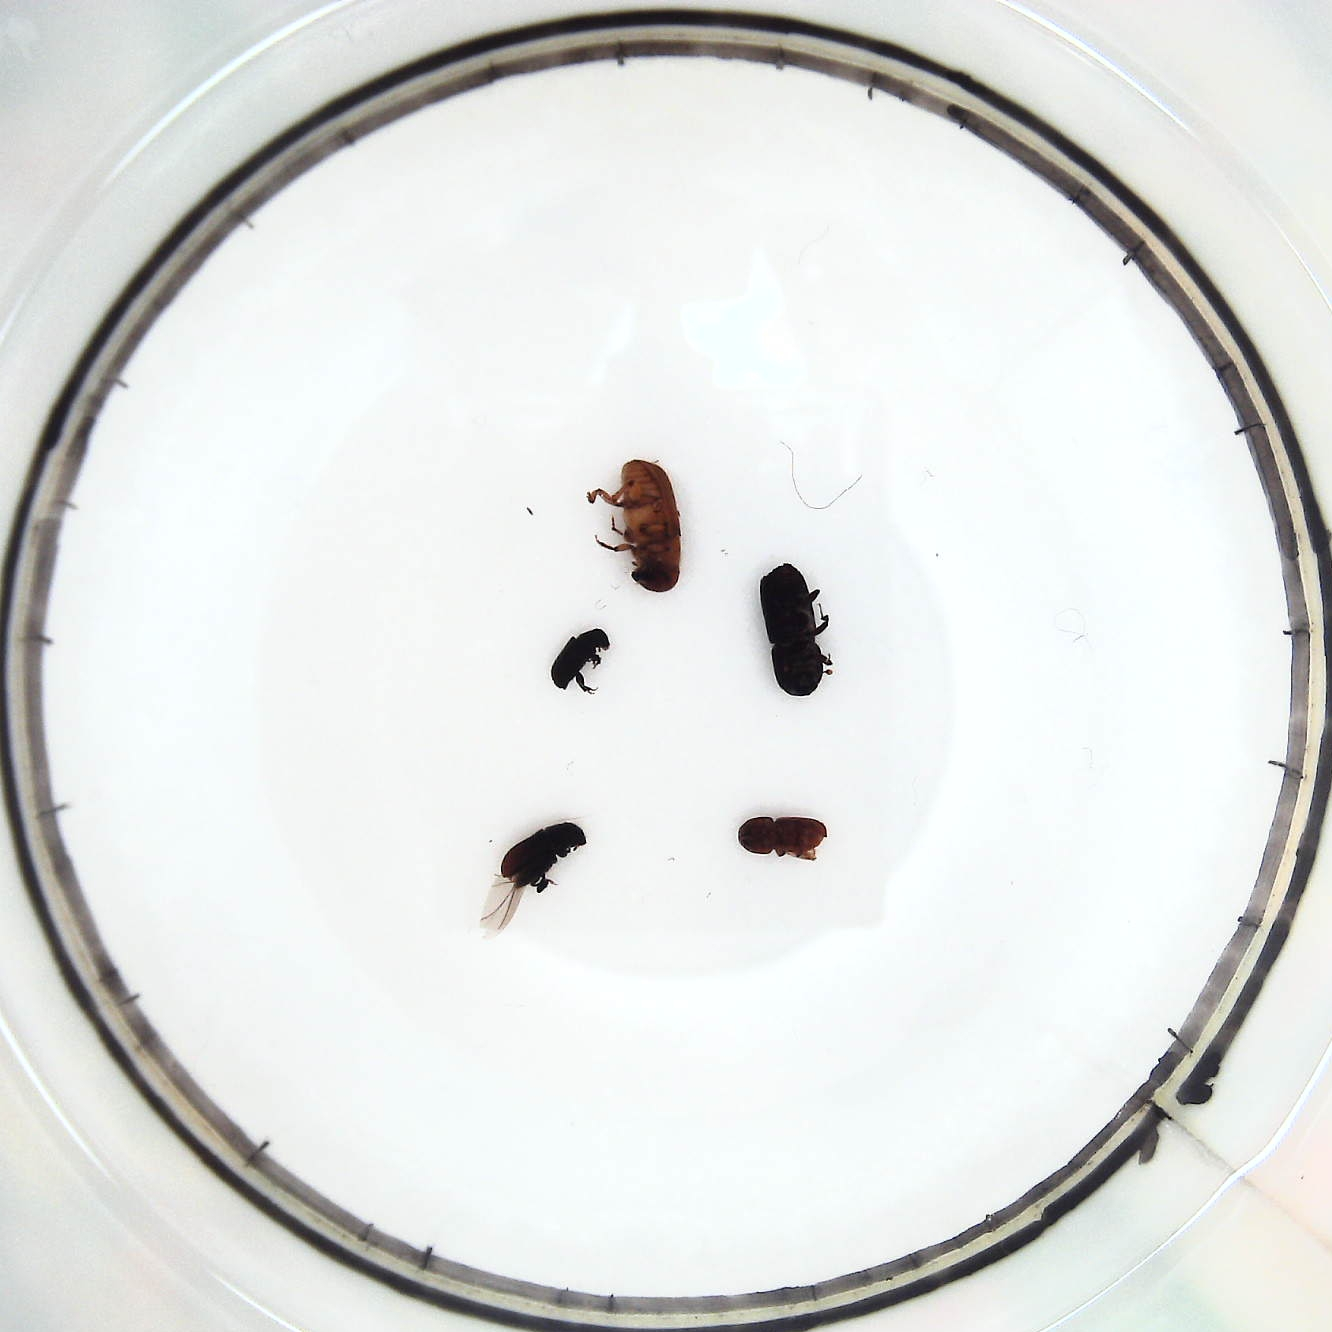Boerner: (753, 557, 838, 707)
Leconte: (589, 446, 687, 595)
armandi: (482, 822, 592, 931)
coleoptera: (543, 621, 618, 704)
linnaeus: (731, 812, 828, 865)
